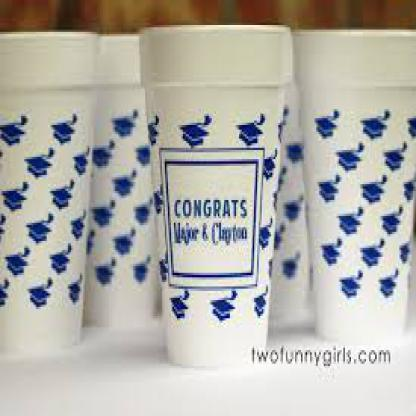paper: (136, 23, 292, 359), (289, 27, 414, 339), (0, 27, 90, 357), (80, 29, 165, 322), (266, 75, 315, 332)
